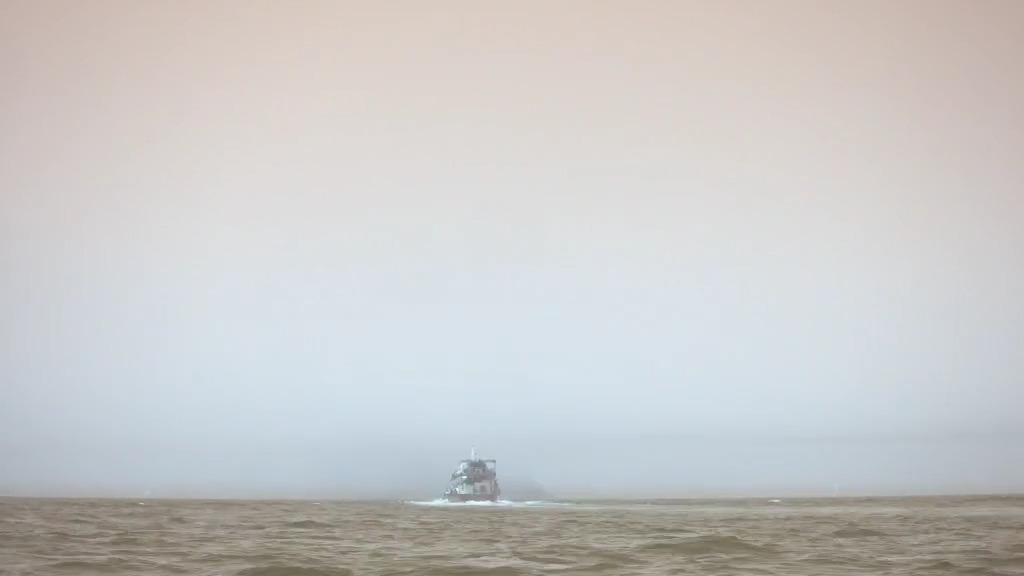PassengerShip: (438, 440, 502, 504)
